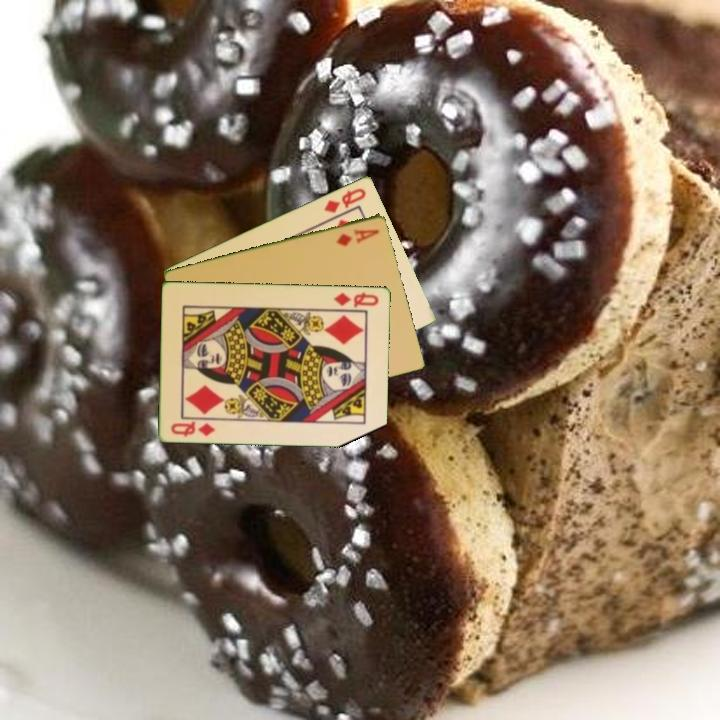Ad: (333, 225, 382, 249)
Qd: (320, 184, 369, 215), (330, 288, 382, 310), (168, 418, 218, 439)
